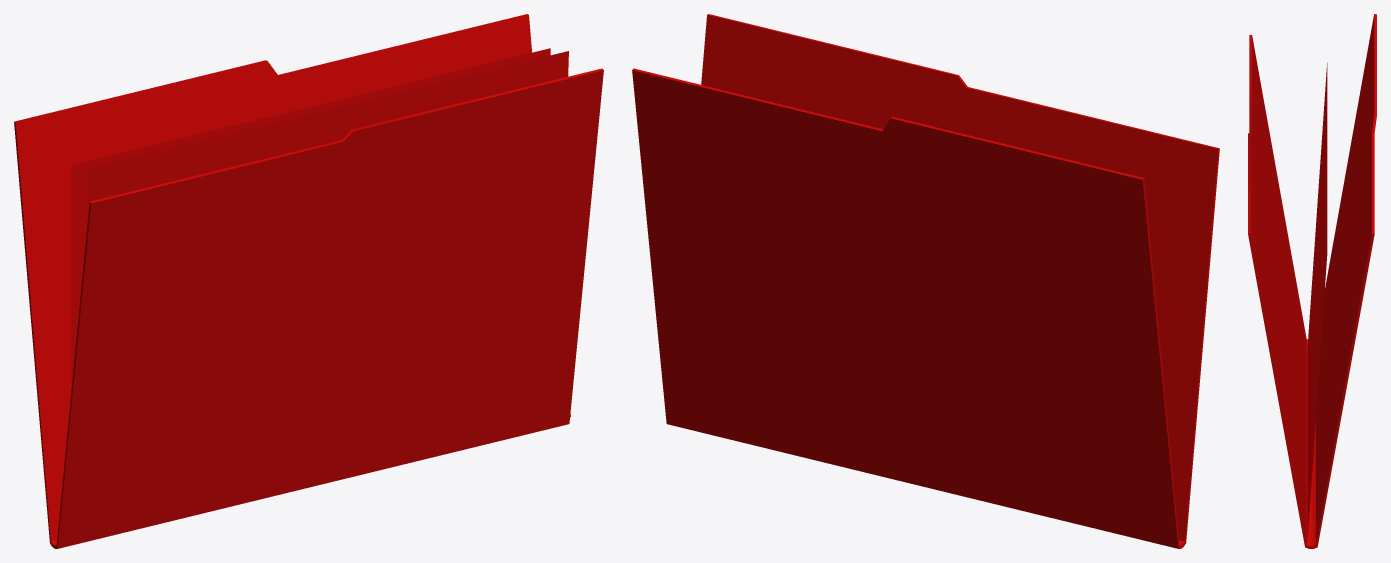
File: Attic_Folder_01_LP.glb
3 renders of one model, left to right at view 1: azimuth 30°, elevation 25°; view 2: azimuth 150°, elevation 25°; view 3: azimuth 270°, elevation 25°, orthographic. The views are drawn at different scales.
Visible parts, largest first — view 1: Attic_Folder_01_LP; view 2: Attic_Folder_01_LP; view 3: Attic_Folder_01_LP.
Part boxes in pixels (bbox=[...]): Attic_Folder_01_LP: bbox=[14, 14, 603, 548]; Attic_Folder_01_LP: bbox=[632, 14, 1219, 548]; Attic_Folder_01_LP: bbox=[1248, 14, 1376, 548].
Bounding box in the file's own units: 0.4379 × 0.3234 × 0.115.
